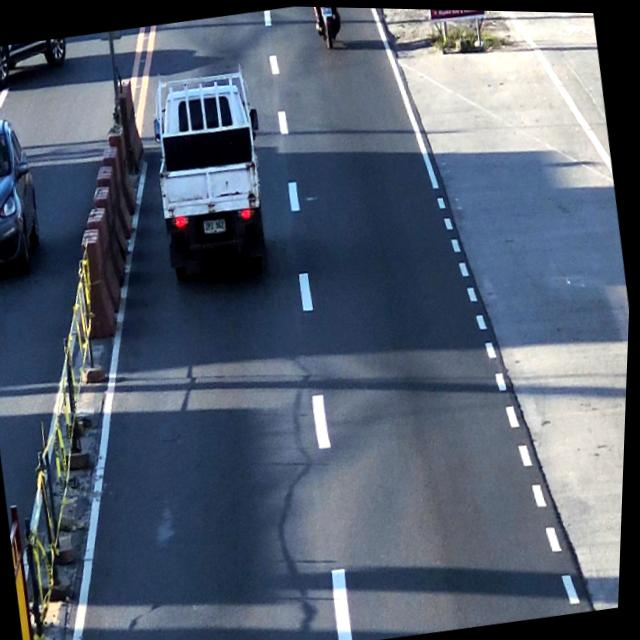License-Plate: (203, 214, 229, 234)
Truck: (140, 69, 279, 284)
